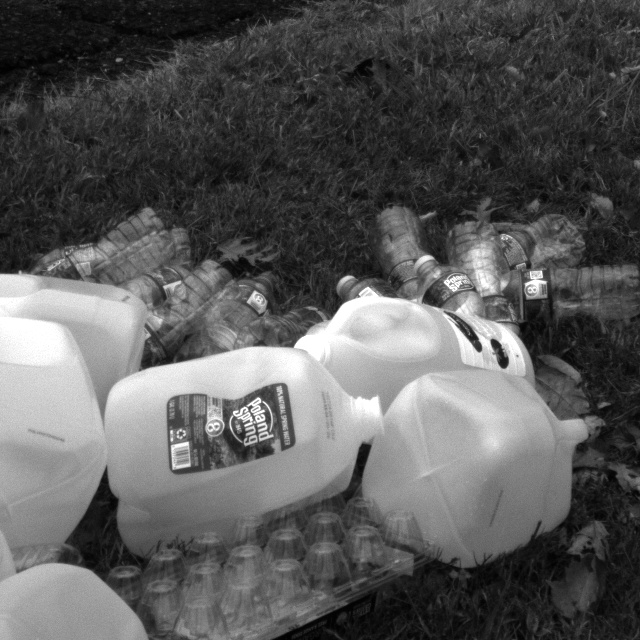bottle: (169, 254, 298, 381), (39, 183, 186, 294), (442, 193, 541, 331), (103, 245, 234, 338), (488, 256, 640, 327), (362, 183, 438, 324)
can: (87, 326, 393, 572), (338, 362, 617, 582), (284, 290, 545, 415), (0, 291, 107, 567), (0, 250, 153, 422), (0, 534, 169, 640)
container: (102, 517, 429, 640)
